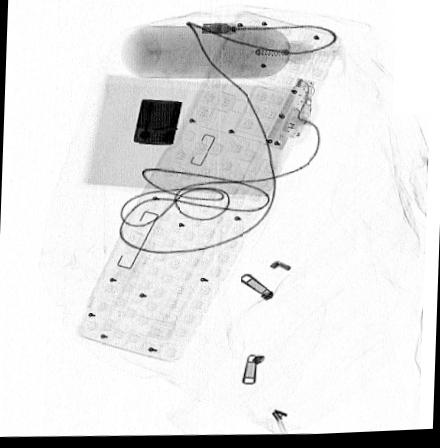Lighter: (132, 99, 183, 146)
